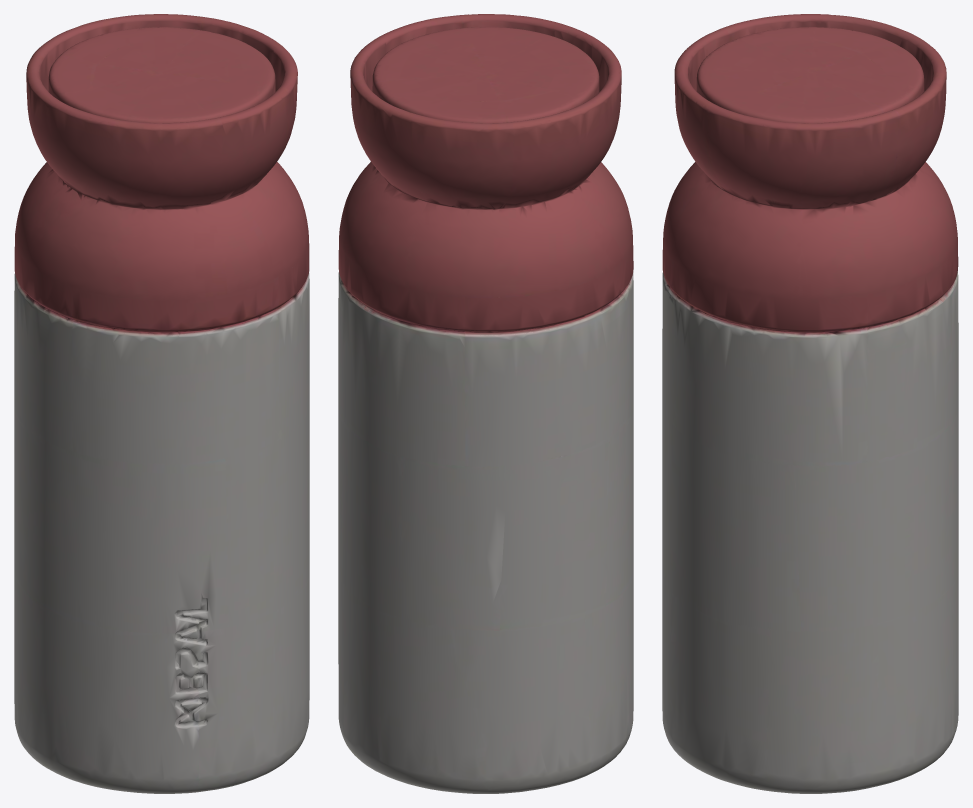
3 renders of one model, left to right at view 1: azimuth 30°, elevation 25°; view 2: azimuth 150°, elevation 25°; view 3: azimuth 270°, elevation 25°, orthographic.
Visible parts, largest first — view 1: tripo_node_dcd03aaf-a80a-4354-8c5f-b42d4898f284; view 2: tripo_node_dcd03aaf-a80a-4354-8c5f-b42d4898f284; view 3: tripo_node_dcd03aaf-a80a-4354-8c5f-b42d4898f284.
Part boxes in pixels (x1,y1,x2,y2): tripo_node_dcd03aaf-a80a-4354-8c5f-b42d4898f284: (14,14,309,793); tripo_node_dcd03aaf-a80a-4354-8c5f-b42d4898f284: (338,14,633,793); tripo_node_dcd03aaf-a80a-4354-8c5f-b42d4898f284: (662,14,958,793).
Size of the model in its own units: 0.4018 by 1 by 0.4023.
1 material, 1 textured.
